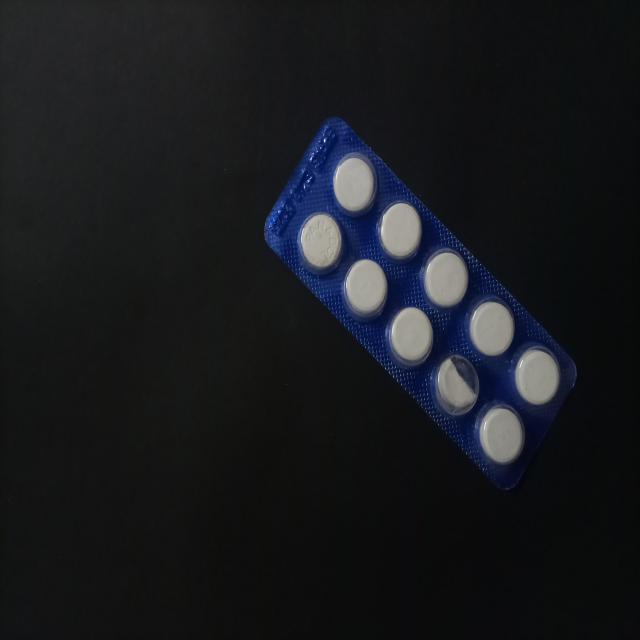defect: (432, 350, 482, 419)
